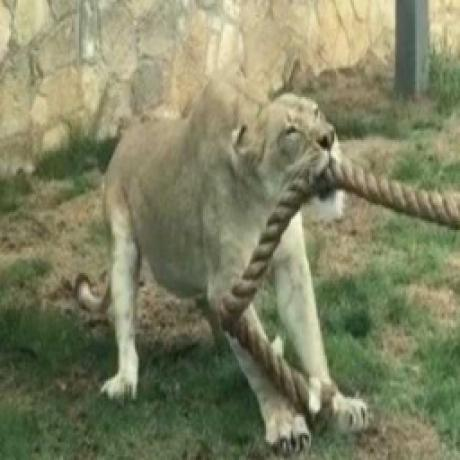Lion: (95, 89, 381, 454)
